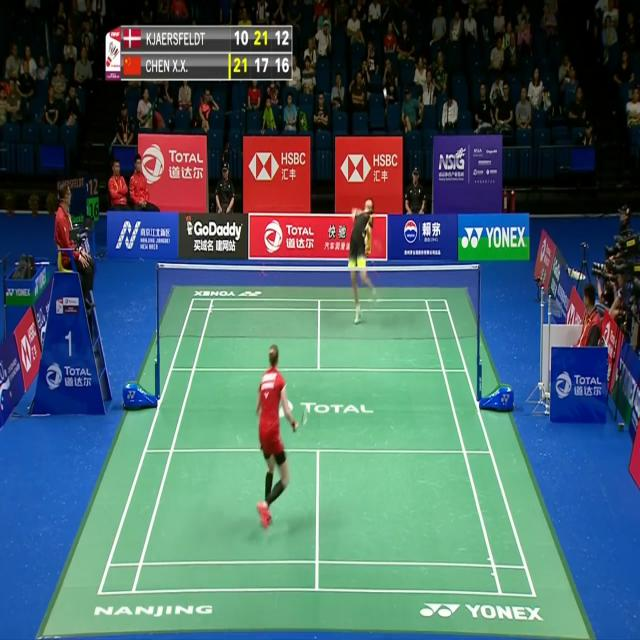Player1: (248, 337, 304, 538)
Player2: (343, 196, 385, 326)
